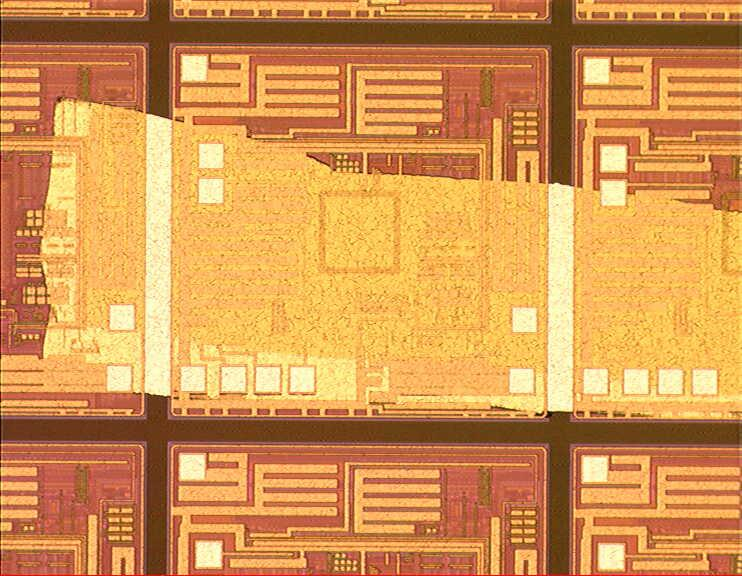BLOCK ETCH: (40, 97, 742, 420)
